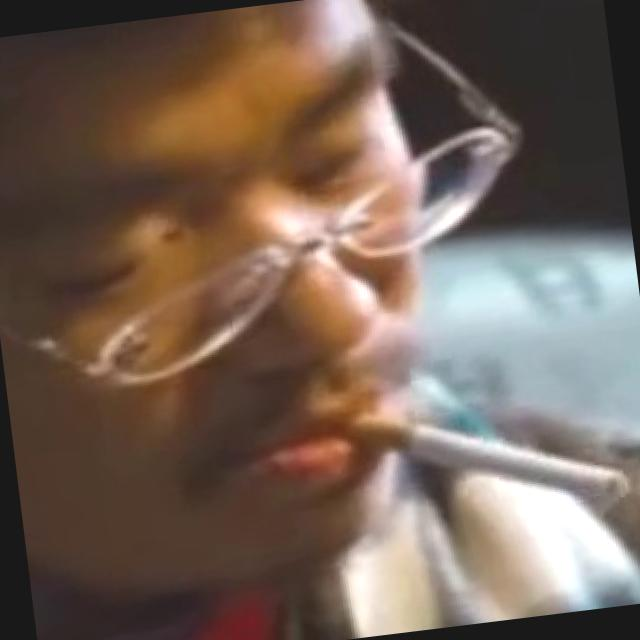cigarette: (364, 371, 638, 535)
